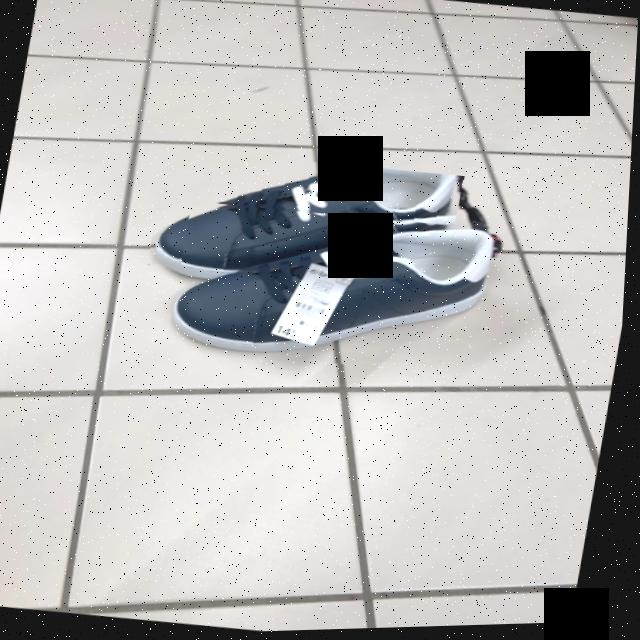shoe: (176, 233, 503, 355), (153, 170, 466, 267)
